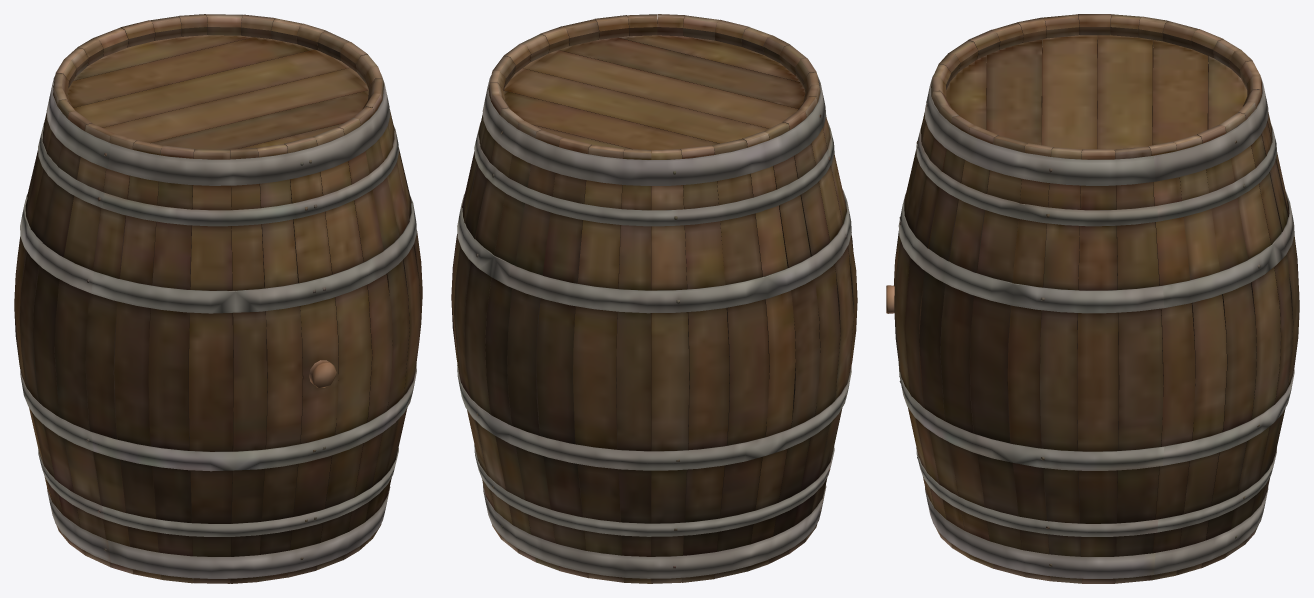
File: barrel.glb
3 views of the same model, side by side, from view 1: azimuth 30°, elevation 25°; view 2: azimuth 150°, elevation 25°; view 3: azimuth 270°, elevation 25° (orthographic).
Parts seen in each view (by area): view 1: wine_barrel_01_Lid; view 2: wine_barrel_01_Lid; view 3: wine_barrel_01_Lid.
Boxes of the visible parts, box(x1,y1,x2,y2) form: wine_barrel_01_Lid: box(14, 14, 422, 583); wine_barrel_01_Lid: box(451, 14, 857, 583); wine_barrel_01_Lid: box(886, 14, 1299, 583).
Bounding box in the file's own units: 0.7419 × 0.8695 × 0.7554.
1 material, 1 textured.
